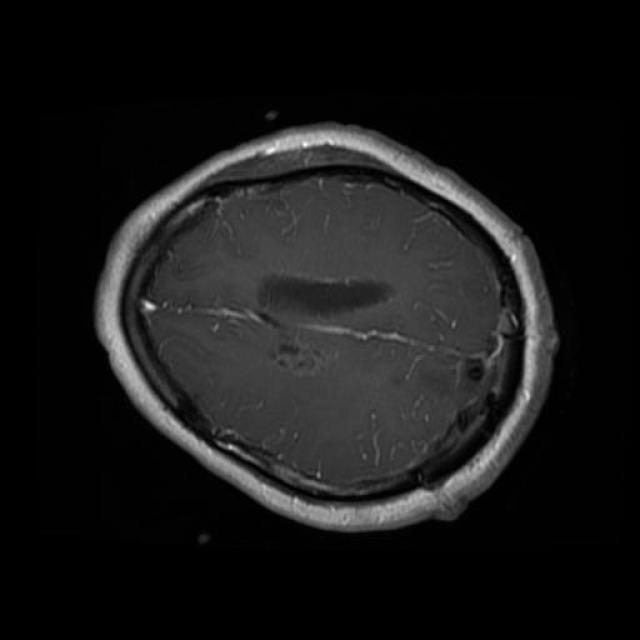Glioma: (270, 323, 324, 373)
